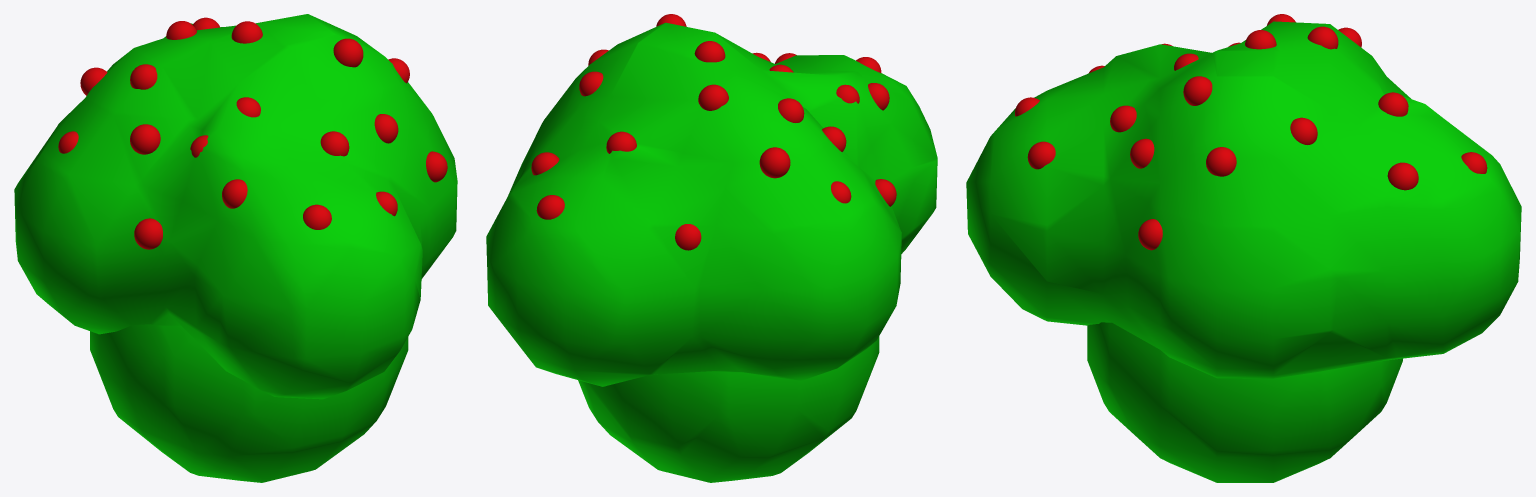
File: Bush.fbx
The picture shows the model from 3 angles, left to right: view 1: azimuth 30°, elevation 25°; view 2: azimuth 150°, elevation 25°; view 3: azimuth 270°, elevation 25°; orthographic projection. The views are drawn at different scales.
Visible parts, largest first — view 1: Bush, Bush.001, Fruit.021; view 2: Bush, Bush.001, Fruit.021; view 3: Bush, Bush.001, Fruit.021.
Part boxes in pixels (x1,y1,x2,y2): Bush: [14, 14, 457, 399]; Bush.001: [90, 324, 408, 482]; Fruit.021: [58, 17, 447, 249]; Bush: [486, 22, 937, 386]; Bush.001: [578, 336, 879, 482]; Fruit.021: [531, 14, 896, 250]; Bush: [966, 21, 1521, 378]; Bush.001: [1087, 322, 1402, 482]; Fruit.021: [1015, 14, 1487, 250].
Bounding box in the file's own units: 3.15 × 3.92 × 3.41.
